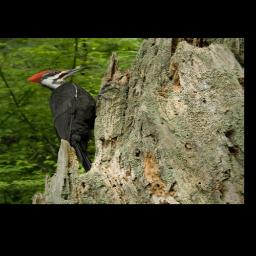Woodpecker: (26, 66, 120, 174)
